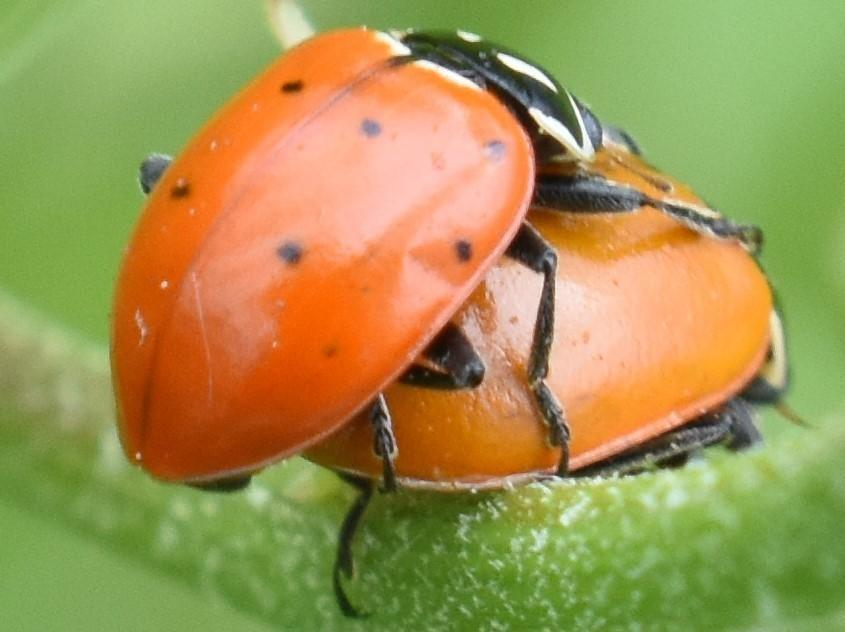ladybug: (106, 19, 666, 504), (291, 113, 813, 623)
